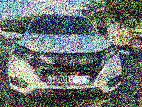car: (9, 11, 122, 99), (0, 26, 23, 39)
